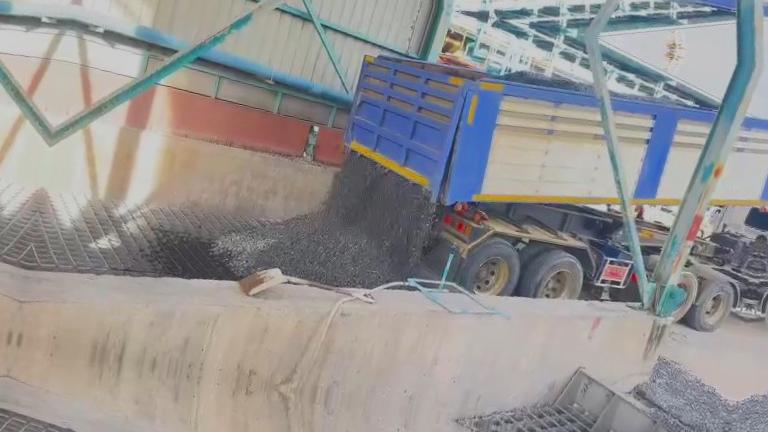gravel: (212, 153, 437, 286), (643, 358, 731, 432), (494, 70, 593, 94)
